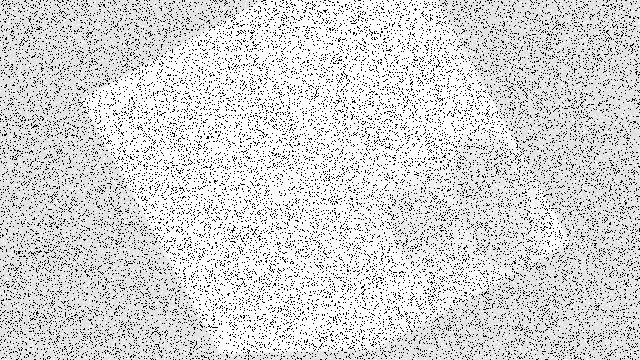pot: (389, 127, 545, 277)
